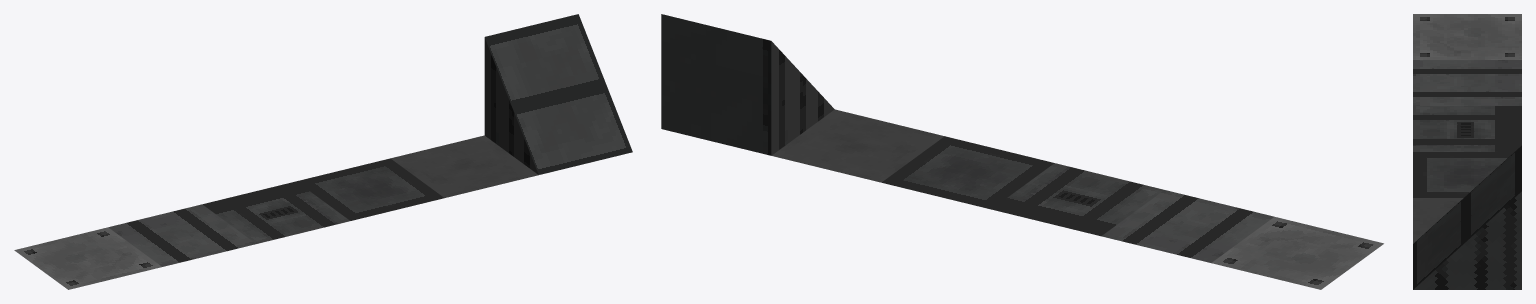
Rendered from gridmap_2.glb.
3 views of the same model, side by side, from view 1: azimuth 30°, elevation 25°; view 2: azimuth 150°, elevation 25°; view 3: azimuth 270°, elevation 25° (orthographic). The views are drawn at different scales.
Visible parts, largest first — view 1: Plane.005, Plane.001, Plane.002, Plane, Plane.003, Plane.004; view 2: Plane.005, Plane.001, Plane.004, Plane, Plane.002, Plane.003; view 3: Plane.005, Plane, Plane.001, Plane.002, Plane.003, Plane.004.
Part boxes in pixels (left/top/right/bottom): Plane.005: left=484, top=14, right=632, bottom=174; Plane.001: left=108, top=204, right=255, bottom=266; Plane.002: left=202, top=181, right=349, bottom=243; Plane: left=14, top=227, right=161, bottom=289; Plane.003: left=297, top=158, right=444, bottom=220; Plane.004: left=391, top=135, right=538, bottom=197; Plane.005: left=661, top=14, right=834, bottom=155; Plane.001: left=1101, top=190, right=1273, bottom=262; Plane.004: left=771, top=109, right=944, bottom=182; Plane: left=1211, top=216, right=1383, bottom=289; Plane.002: left=991, top=163, right=1163, bottom=236; Plane.003: left=882, top=136, right=1054, bottom=209; Plane.005: left=1413, top=145, right=1521, bottom=289; Plane: left=1413, top=14, right=1521, bottom=59; Plane.001: left=1413, top=60, right=1521, bottom=105; Plane.002: left=1413, top=106, right=1521, bottom=151; Plane.003: left=1413, top=152, right=1513, bottom=197; Plane.004: left=1413, top=198, right=1463, bottom=243.
Bounding box in the file's own units: 12 × 2 × 2.
Materials: 6 (6 with a texture image).
